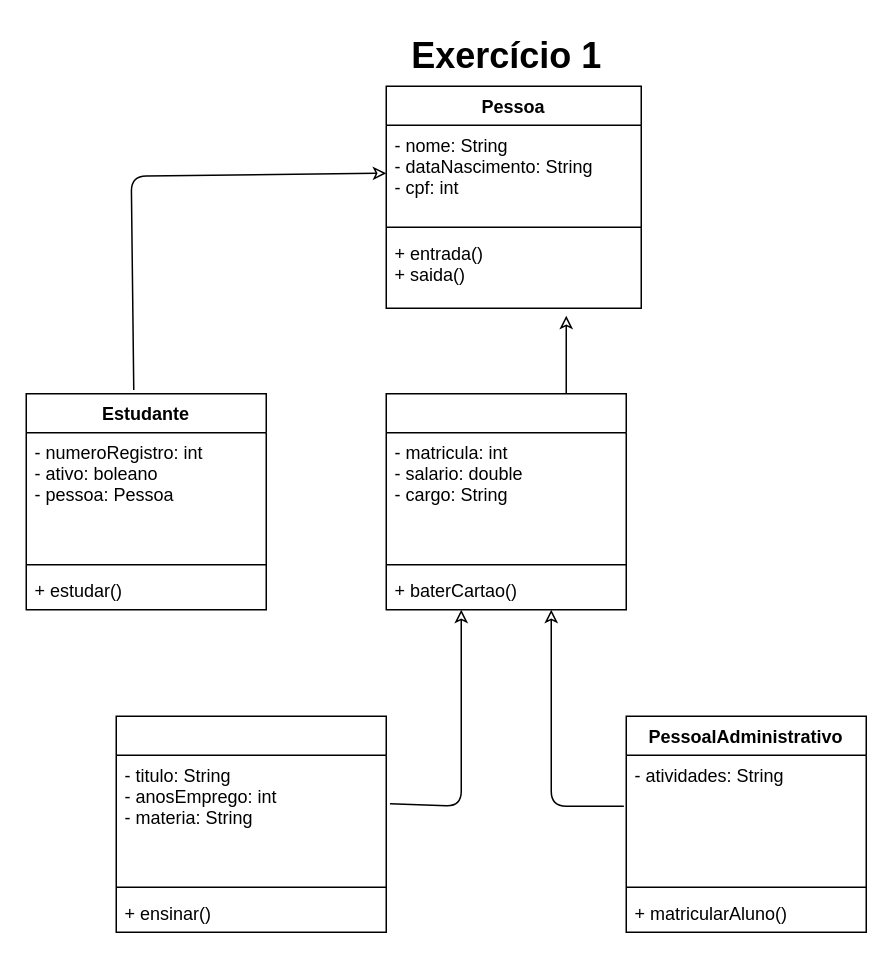
Image size: 893x962. Some labels were removed from this diagram. The shapes that lost their labels are listed below. From the top down, each one's box as (x1, y1, x2, y2) in pixels, then its label:
(385, 392, 626, 610): Funcionario
(115, 715, 386, 932): Professor
